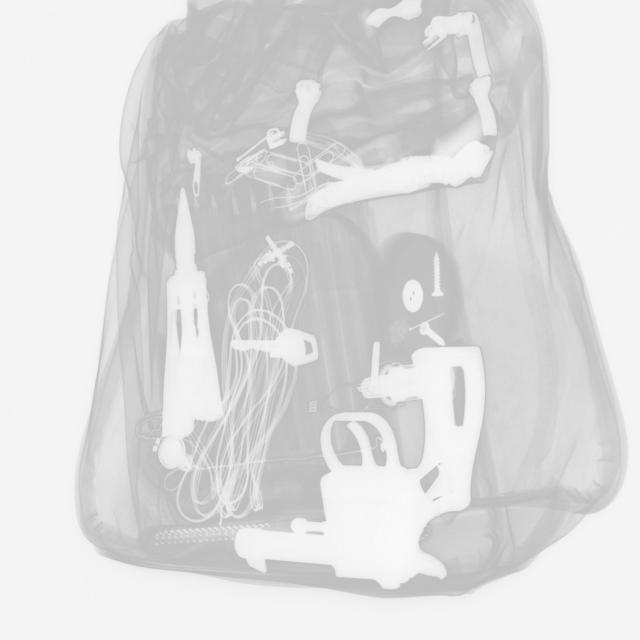pistol: (230, 342, 488, 596)
